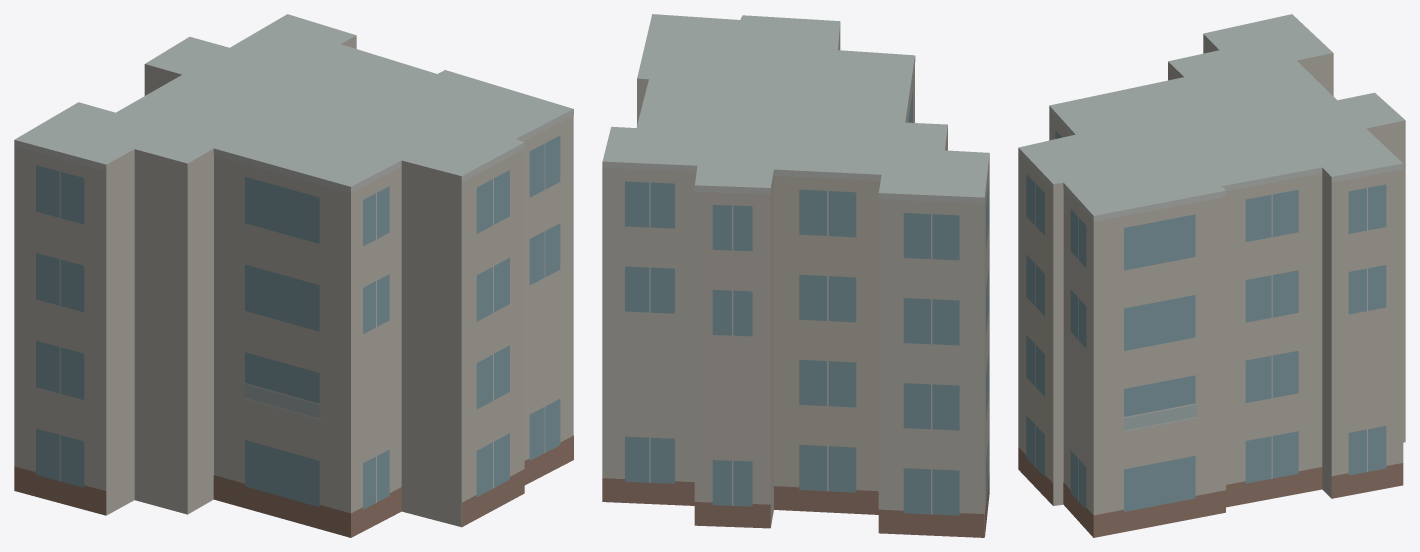
The model's file is survey-upis-32460472.glb.
3 renders of one model, left to right at view 1: azimuth 30°, elevation 25°; view 2: azimuth 150°, elevation 25°; view 3: azimuth 270°, elevation 25°, orthographic. The views are drawn at different scales.
Parts seen in each view (by area): view 1: survey-upis-32460472.tmp; view 2: survey-upis-32460472.tmp; view 3: survey-upis-32460472.tmp.
Part boxes in pixels (box(x1,y1,x2,y2)): survey-upis-32460472.tmp: box(14, 14, 573, 537); survey-upis-32460472.tmp: box(602, 14, 989, 537); survey-upis-32460472.tmp: box(1018, 14, 1405, 537).
Bounding box in the file's own units: 17.97 × 13.35 × 14.56.
